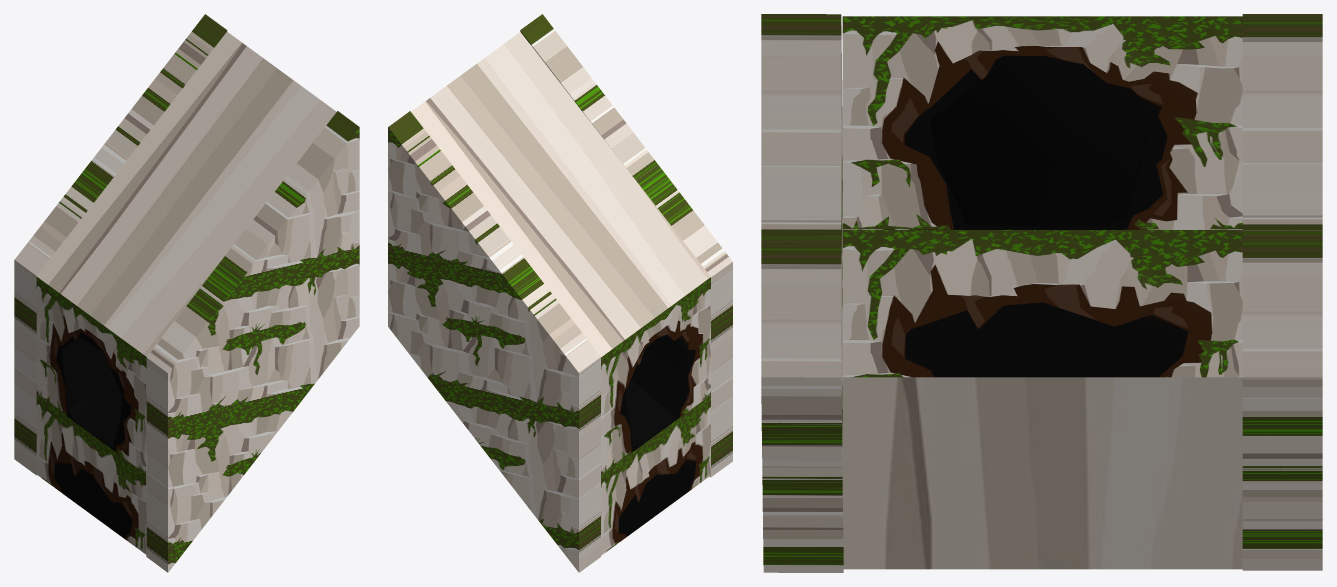
Rendered from CaseDescente.fbx.
3 views of the same model, side by side, from view 1: azimuth 30°, elevation 25°; view 2: azimuth 150°, elevation 25°; view 3: azimuth 270°, elevation 25° (orthographic). The views are drawn at different scales.
Visible parts, largest first — view 1: Box048, Box050, Box049; view 2: Box048, Box049, Box050; view 3: Box048, Box050, Box049.
Boxes of the visible parts, left/top/right/bottom form: Box048: left=36, top=32, right=336, bottom=554; Box050: left=146, top=111, right=359, bottom=572; Box049: left=14, top=14, right=227, bottom=475; Box048: left=411, top=32, right=710, bottom=555; Box049: left=388, top=111, right=600, bottom=572; Box050: left=520, top=14, right=732, bottom=477; Box048: left=842, top=16, right=1242, bottom=569; Box050: left=761, top=14, right=843, bottom=572; Box049: left=1242, top=14, right=1322, bottom=570.
Size of the model in its own units: 197 by 394 by 276.
